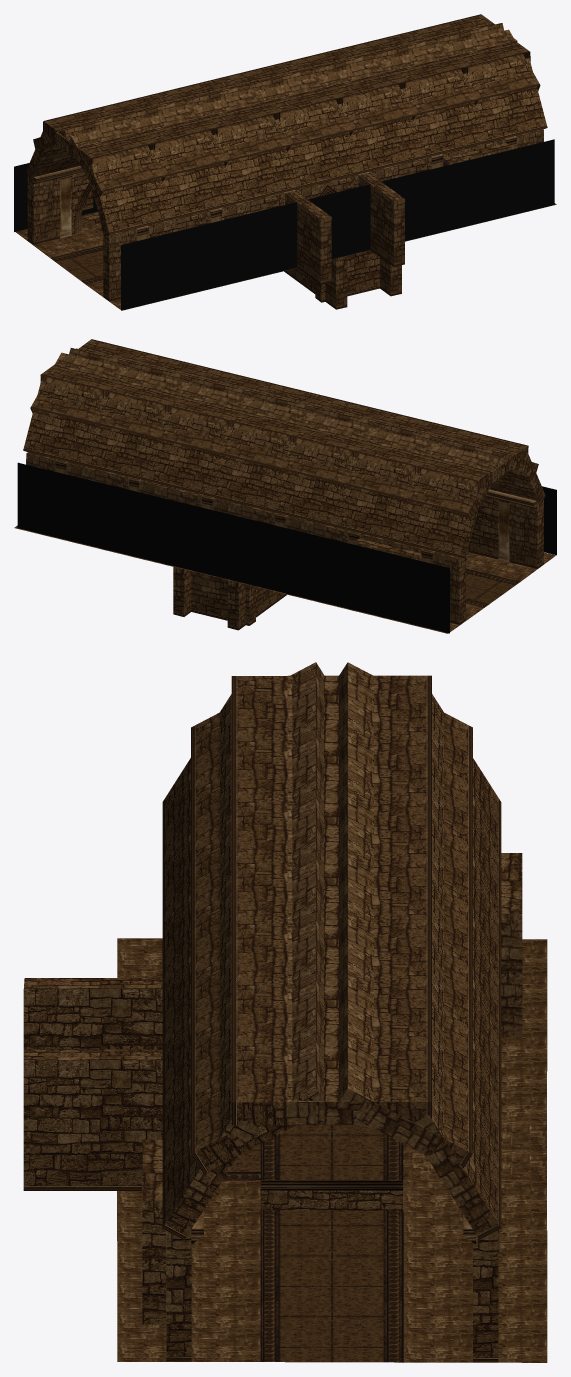
Rendered from TunnelTemplate4.fbx.
The picture shows the model from 3 angles, top to bottom: view 1: azimuth 30°, elevation 25°; view 2: azimuth 150°, elevation 25°; view 3: azimuth 270°, elevation 25°; orthographic projection. The views are drawn at different scales.
Parts seen in each view (by area): view 1: Plane.022, Plane.057, Plane.060, Plane.055, Plane.059, Plane.058, Plane.056, Plane.035, Floor, Plane.061, Plane.001, Plane.050 (+18 smaller); view 2: Plane.068, Plane.061, Floor, Plane.067, Plane.064, Plane.063, Plane.062, Plane.066, Plane.065, Plane.057, Plane.045, Plane.030 (+17 smaller); view 3: Floor, Plane.064, Plane.001, Plane.060, Plane.067, Plane.061, Plane.066, Plane.062, Plane.063, Plane.065, Plane.050, Plane.055 (+9 smaller).
Part boxes in pixels (x1,y1,x2,y2): Plane.022: (121,139,554,310); Plane.057: (56,121,171,236); Plane.060: (446,29,547,142); Plane.055: (196,91,296,204); Plane.059: (384,45,484,158); Plane.058: (321,60,422,173); Plane.056: (133,106,233,219); Plane.035: (259,75,359,188); Floor: (16,194,556,310); Plane.061: (26,106,141,181); Plane.001: (358,172,404,266); Plane.050: (285,190,331,284); Plane.068: (17,462,449,633); Plane.061: (397,440,513,558); Floor: (14,525,555,633); Plane.067: (210,394,325,511); Plane.064: (23,348,138,466); Plane.063: (272,409,388,527); Plane.062: (335,424,450,541); Plane.066: (147,379,263,496); Plane.065: (85,363,200,481); Plane.057: (443,430,545,505); Plane.045: (509,500,543,568); Plane.030: (468,496,498,559); Floor: (117,938,547,1362); Plane.064: (287,1028,501,1239); Plane.001: (23,1049,162,1190); Plane.060: (162,1027,367,1240); Plane.067: (287,845,501,1045); Plane.061: (287,662,501,862); Plane.066: (287,906,501,1106); Plane.062: (287,723,501,923); Plane.063: (287,784,501,984); Plane.065: (287,967,501,1167); Plane.050: (23,978,162,1059); Plane.055: (162,784,323,983).
Size of the model in its own units: 17519 by 7833 by 9063.
